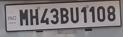0: (96, 6, 107, 22)
1: (88, 6, 97, 23), (80, 6, 89, 23)
3: (50, 7, 60, 24)
4: (39, 8, 50, 25)
8: (107, 5, 117, 22)
B: (60, 7, 70, 24)
H: (29, 8, 40, 26)
M: (19, 8, 29, 26)
U: (69, 7, 80, 24)
